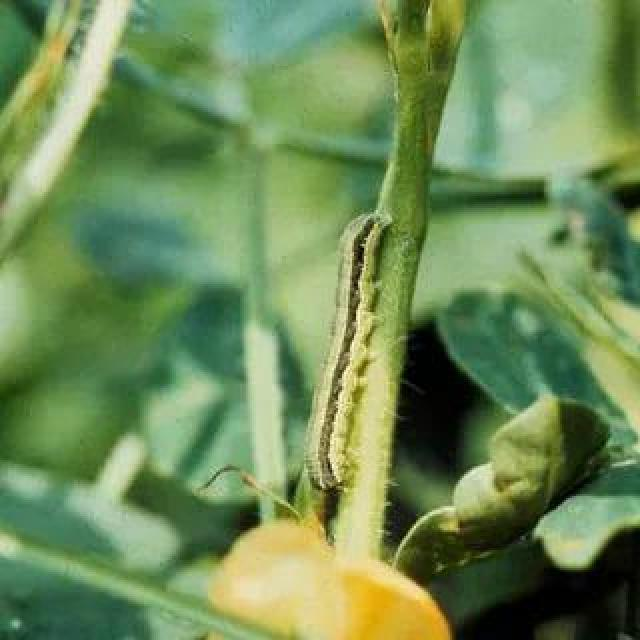BeetArmyWorm-Larva-: (292, 204, 404, 505)
